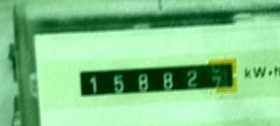1: (86, 72, 99, 92)
2: (185, 67, 198, 86)
5: (111, 71, 124, 92)
7: (210, 73, 222, 87)
8: (136, 70, 149, 91), (161, 69, 174, 90)
screen: (70, 51, 247, 103)
